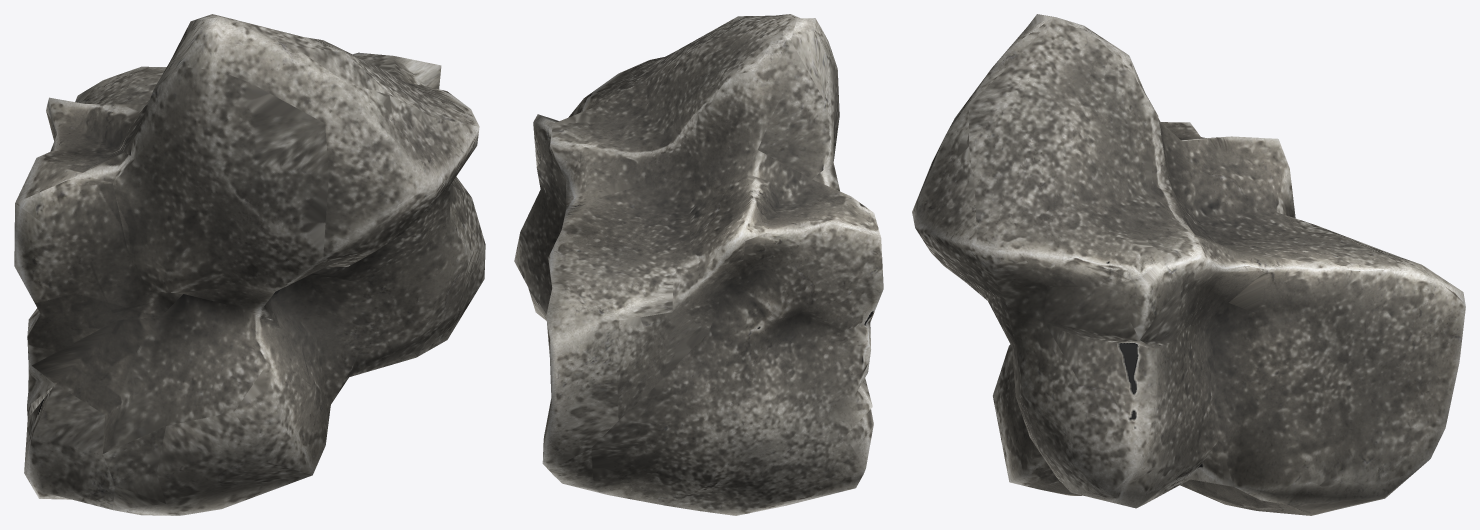
File: piece.obj
3 renders of one model, left to right at view 1: azimuth 30°, elevation 25°; view 2: azimuth 150°, elevation 25°; view 3: azimuth 270°, elevation 25°, orthographic. The views are drawn at different scales.
Visible parts, largest first — view 1: rockAB; view 2: rockAB; view 3: rockAB.
Boxes of the visible parts, x1=… form: rockAB: x1=14, y1=14, x2=485, y2=515; rockAB: x1=514, y1=14, x2=883, y2=515; rockAB: x1=912, y1=14, x2=1465, y2=515.
Bounding box in the file's own units: 0.1236 × 0.1369 × 0.1391.
1 material, 1 textured.
